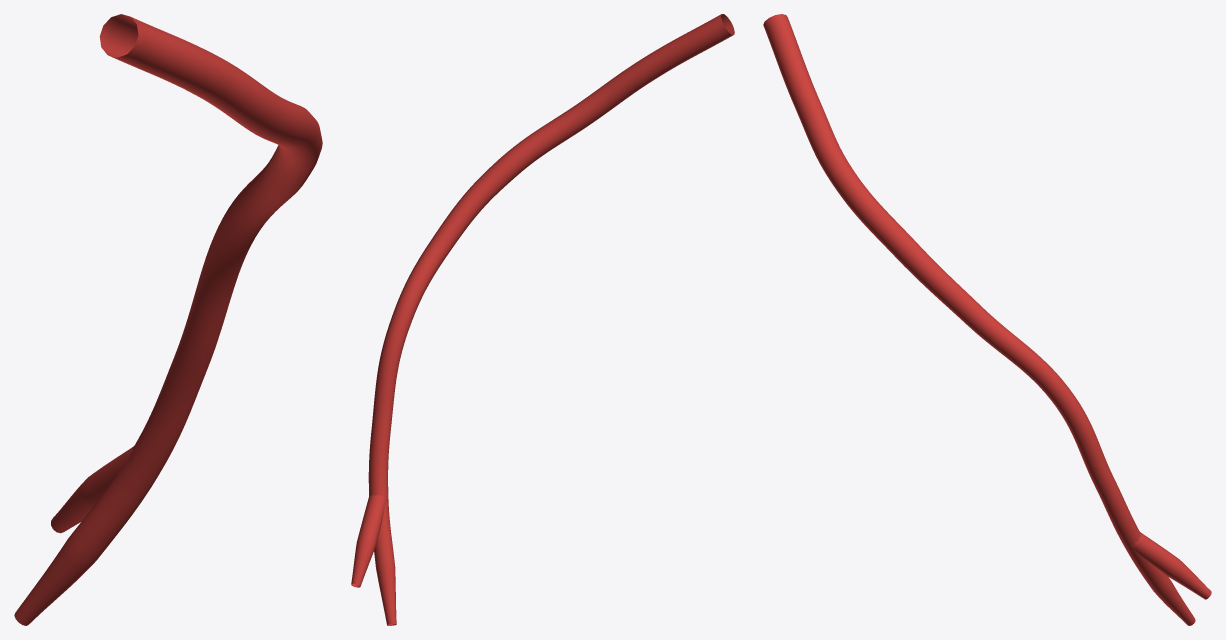
3 renders of one model, left to right at view 1: azimuth 30°, elevation 25°; view 2: azimuth 150°, elevation 25°; view 3: azimuth 270°, elevation 25°, orthographic. The views are drawn at different scales.
Parts seen in each view (by area): view 1: 左肺下舌段动脉; view 2: 左肺下舌段动脉; view 3: 左肺下舌段动脉.
Part boxes in pixels (left/top/right/bottom): 左肺下舌段动脉: left=14, top=14, right=322, bottom=625; 左肺下舌段动脉: left=351, top=14, right=734, bottom=625; 左肺下舌段动脉: left=763, top=14, right=1211, bottom=625.
Size of the model in its own units: 0.0739 by 0.1681 by 0.1268.
